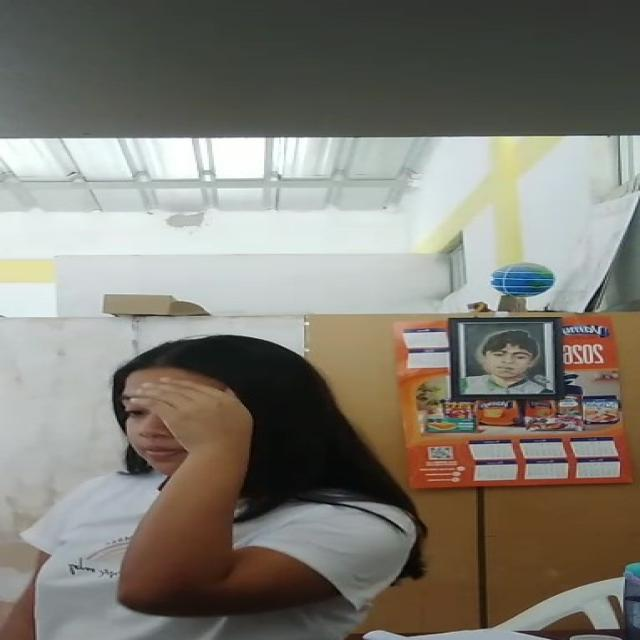7_mano_rostro: (129, 378, 256, 460)
